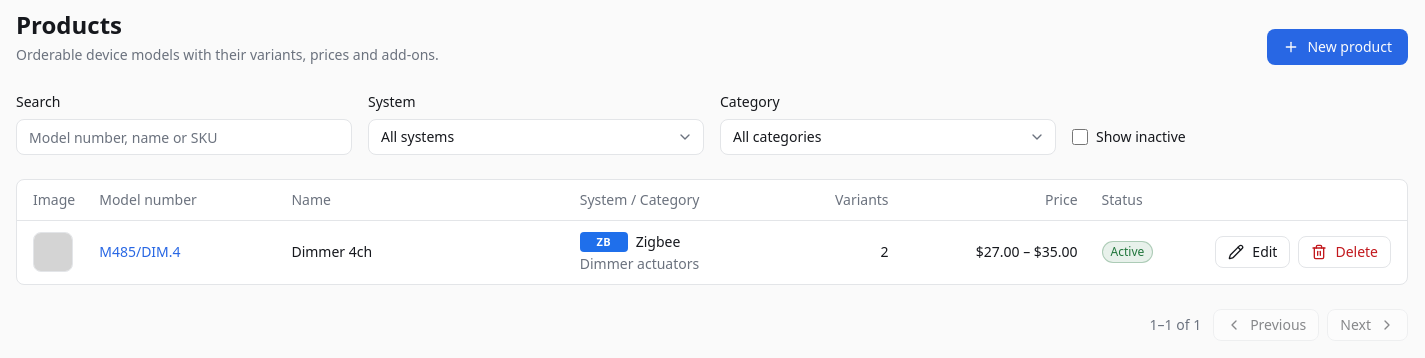
Test: ProductsPage › shows a changed filter at once, not only when the navigation has finished
Click the dropdown labelled "system" at (418, 136), box [368, 119, 704, 155]
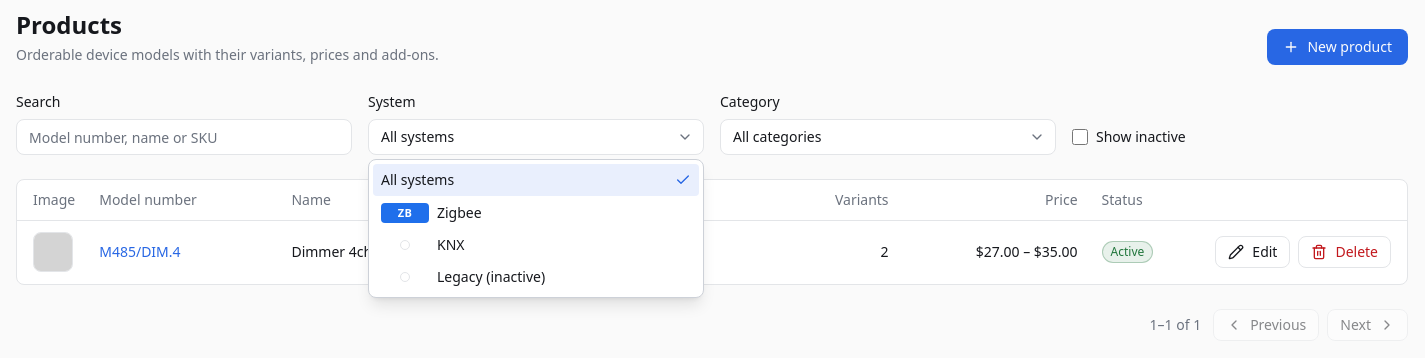
Click the checkbox labelled "Show inactive" at (1080, 137), box [1072, 129, 1088, 145]
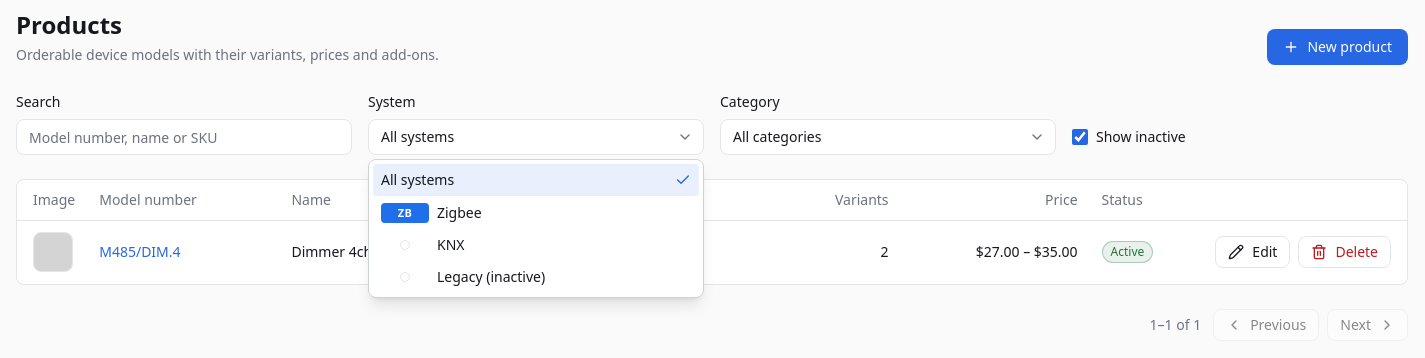
Expected: the checkbox labelled "Show inactive" is checked, [1072, 129, 1088, 145]
Click the option "KNX" at (405, 244), box [400, 234, 464, 254]
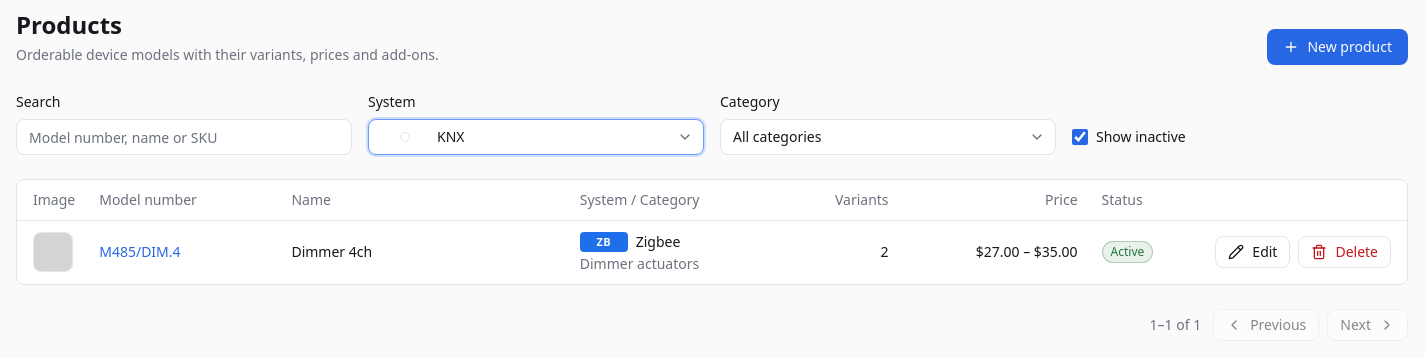
Expected: the checkbox labelled "Show inactive" is checked, [1072, 129, 1088, 145]
Expected: the dropdown named "System" reads "KNX", [368, 119, 704, 155]
